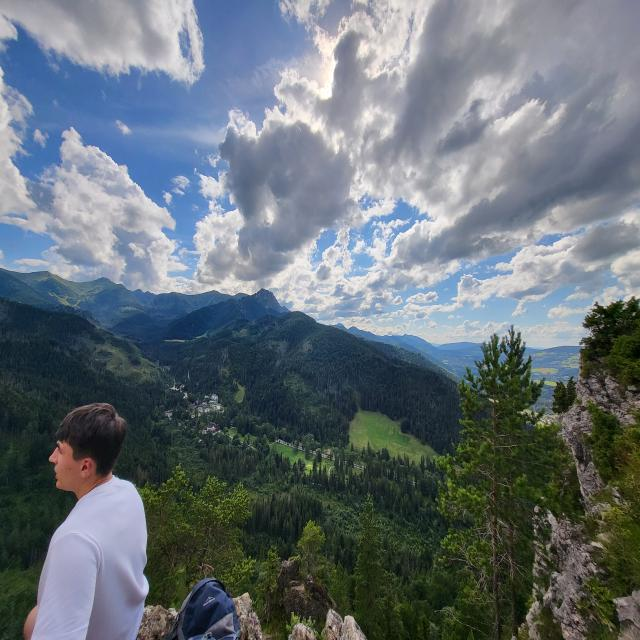Banikov: (308, 274, 398, 384)
Giewont: (220, 238, 312, 347)
Kopa Kondracka: (172, 241, 254, 341)
Volovec: (314, 281, 366, 371)
